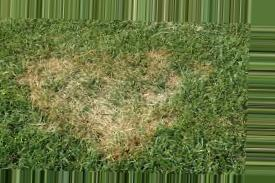patch: (32, 68, 115, 111), (70, 97, 166, 131), (96, 64, 176, 97)
